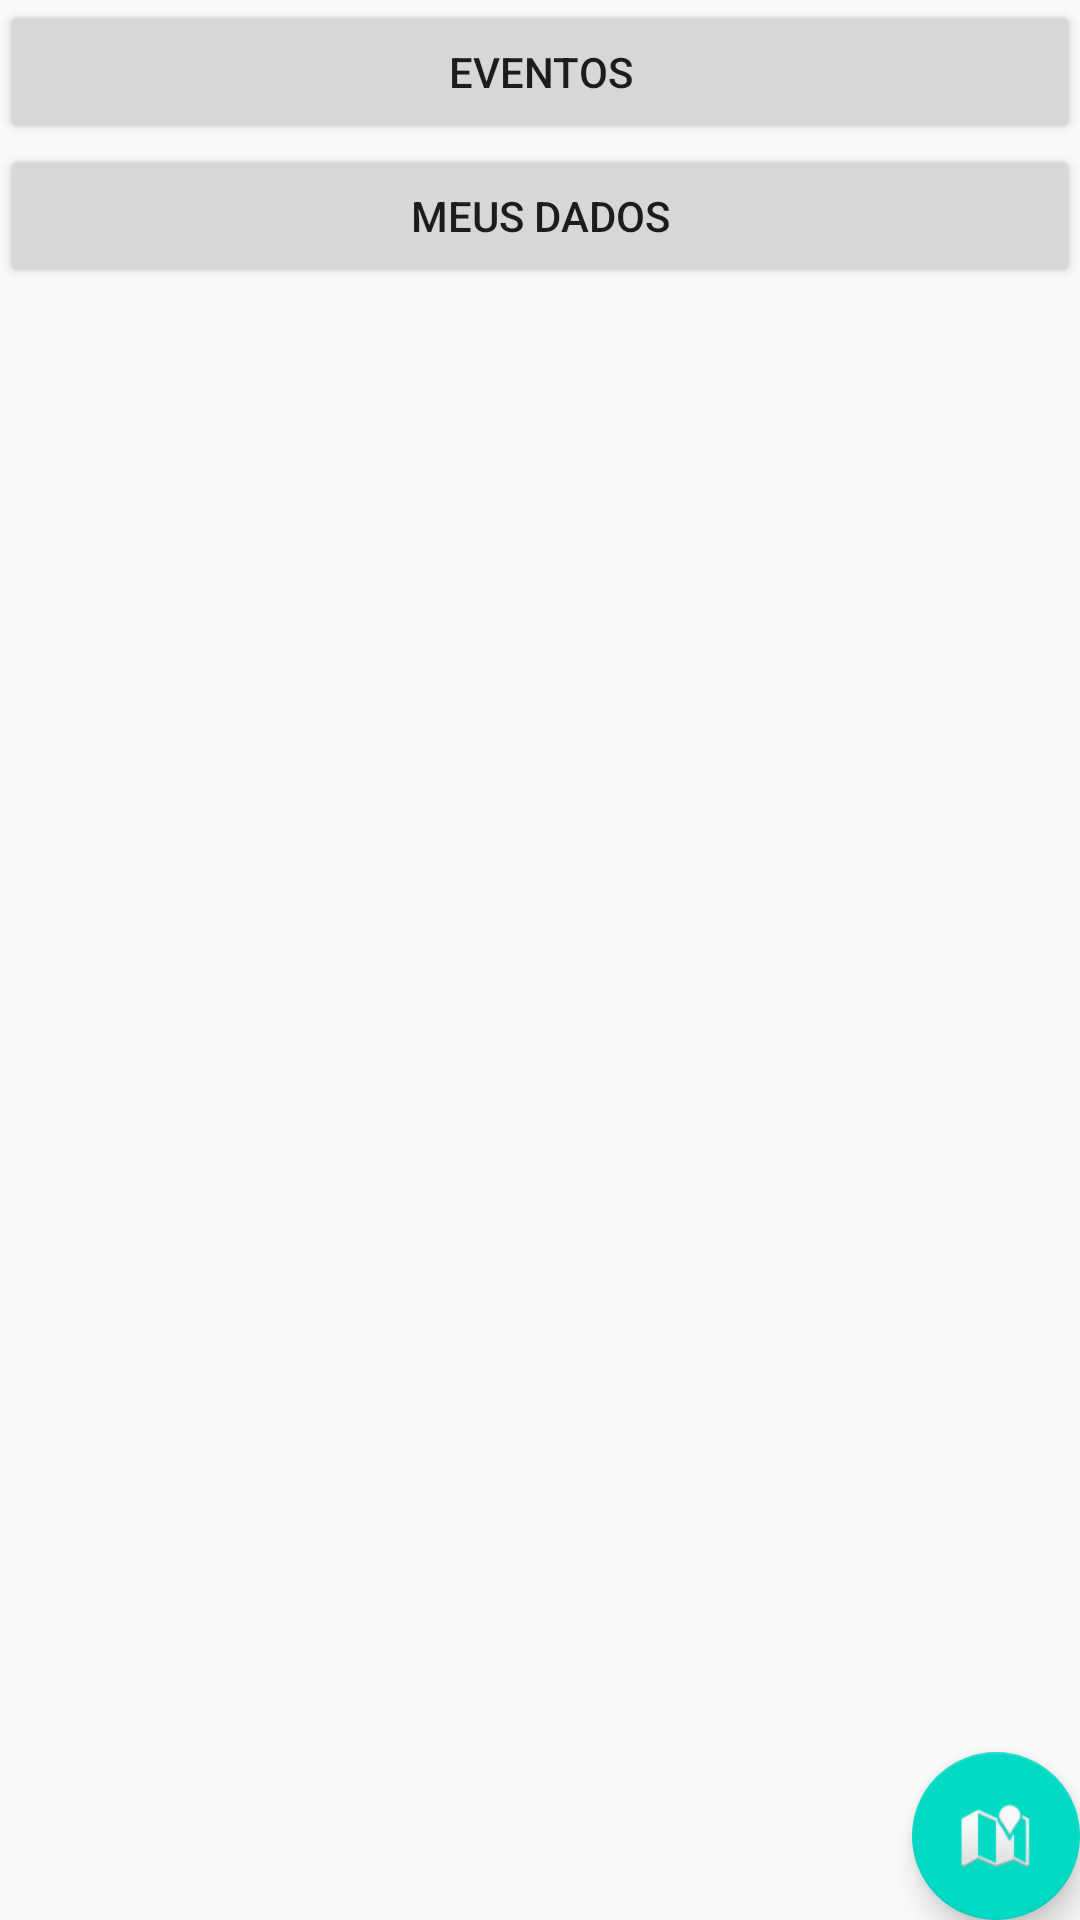

Screen size 1080*1920. Icon name, then its box in pixels as {"x1": x1, "y1": y1, "x2": x2, "y2": y2}:
map: {"x1": 912, "y1": 1752, "x2": 1080, "y2": 1920}
